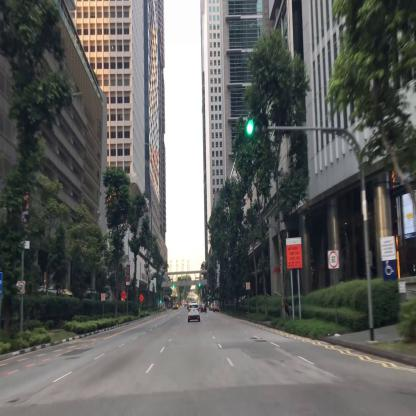green_traffic_light: (247, 123, 268, 135)
